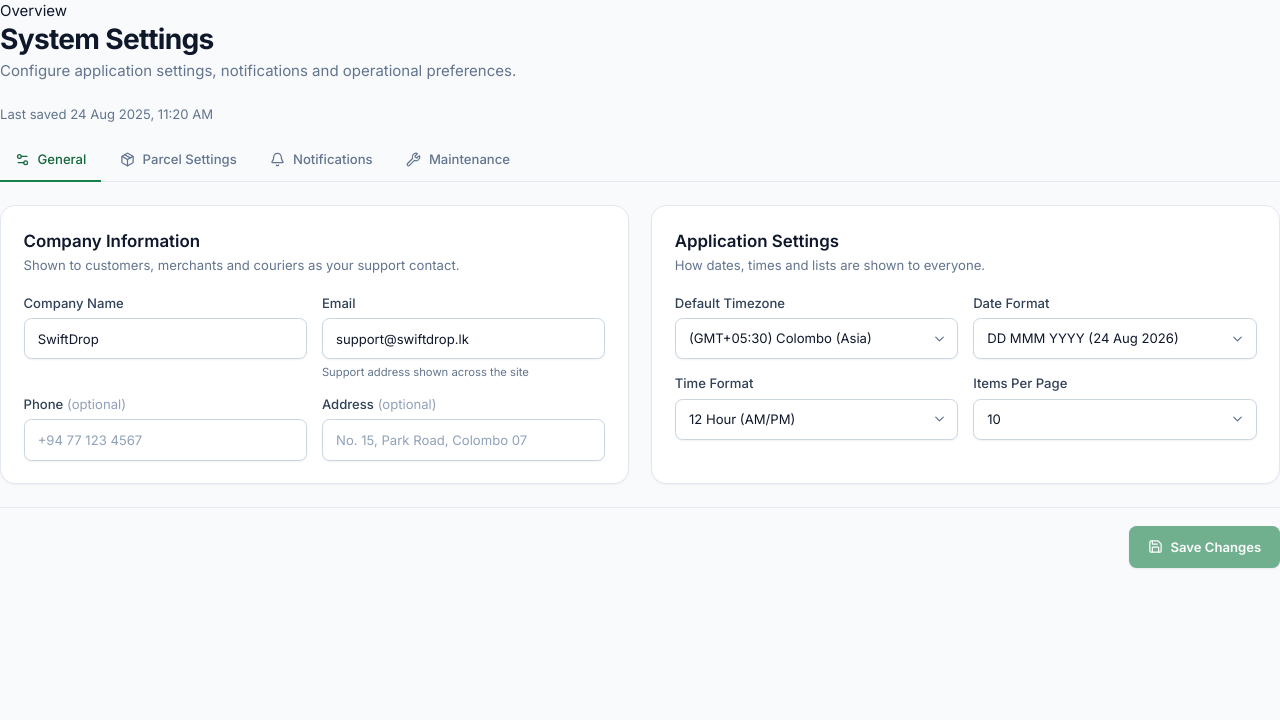
Test: SystemSettingsPage › asks before turning on maintenance mode
Expected: the tab "General" is shown, [0,139,101,182]
Click the tab "Maintenance" at {"x": 458, "y": 160}, box [391,139,525,182]
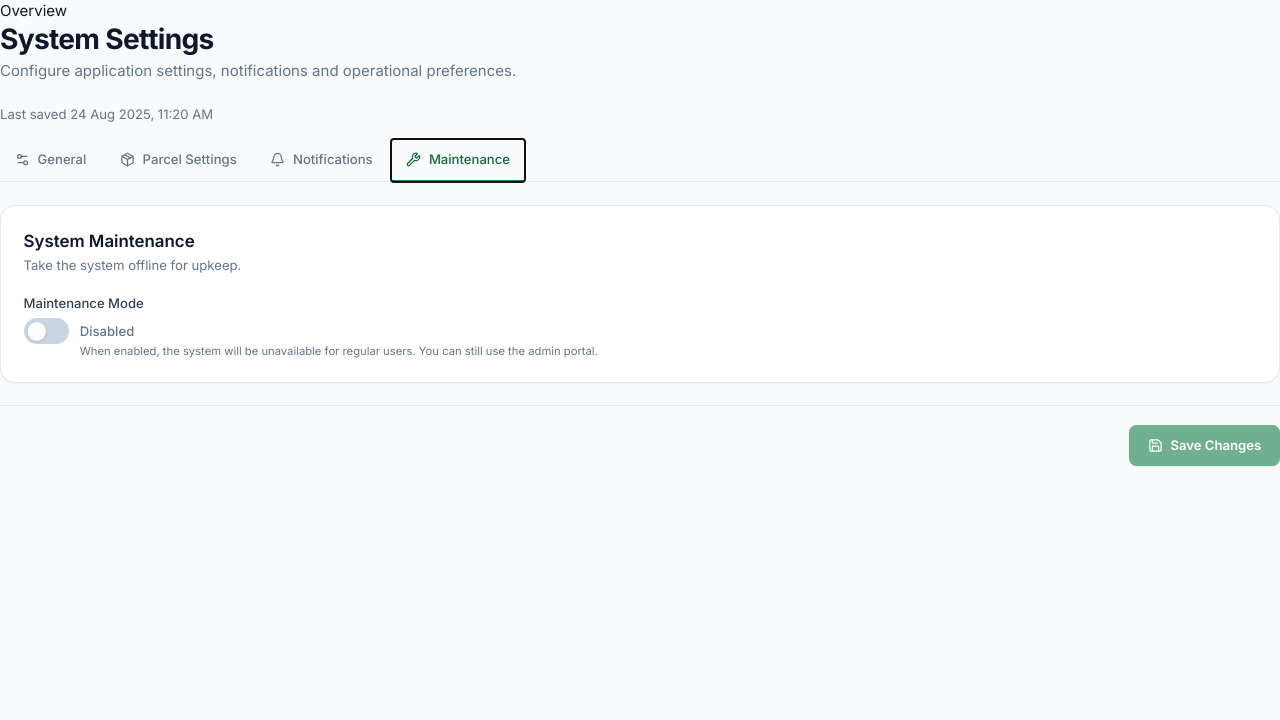
Click the switch named "Maintenance Mode" at {"x": 46, "y": 331}, box [24,318,68,344]
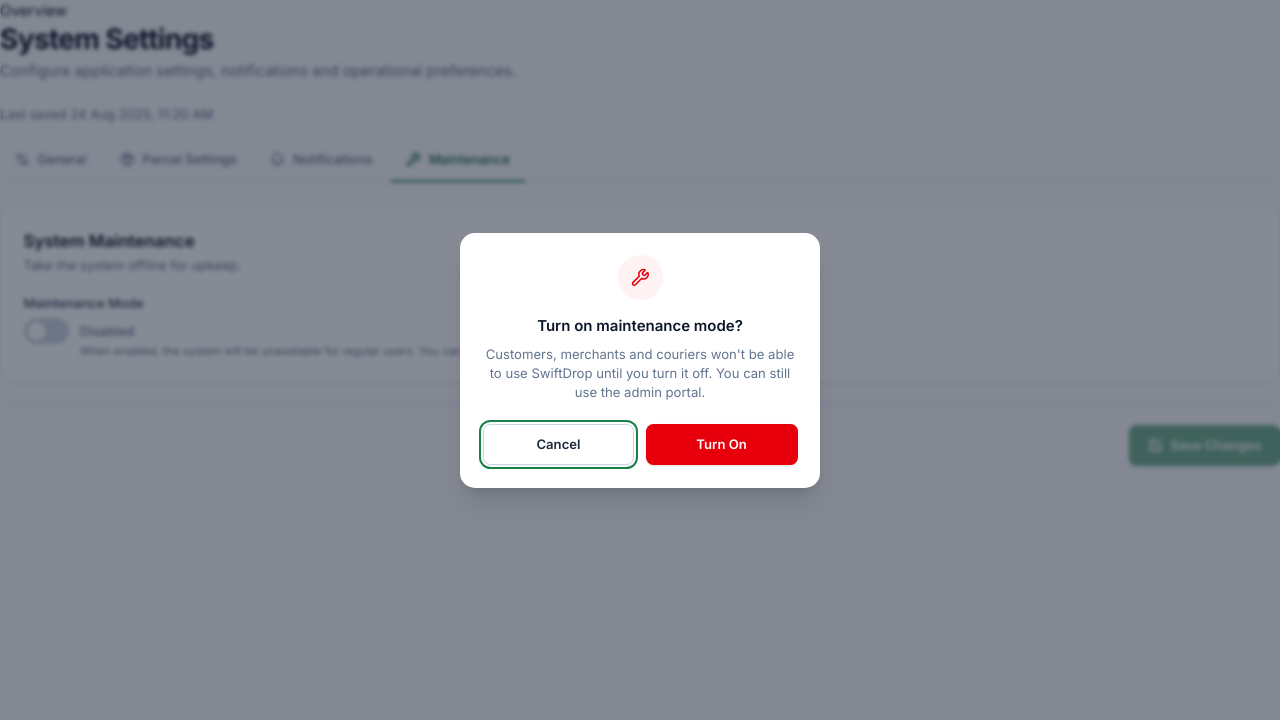
Click the button "Cancel" at {"x": 558, "y": 444}, box [482,424,634,465]
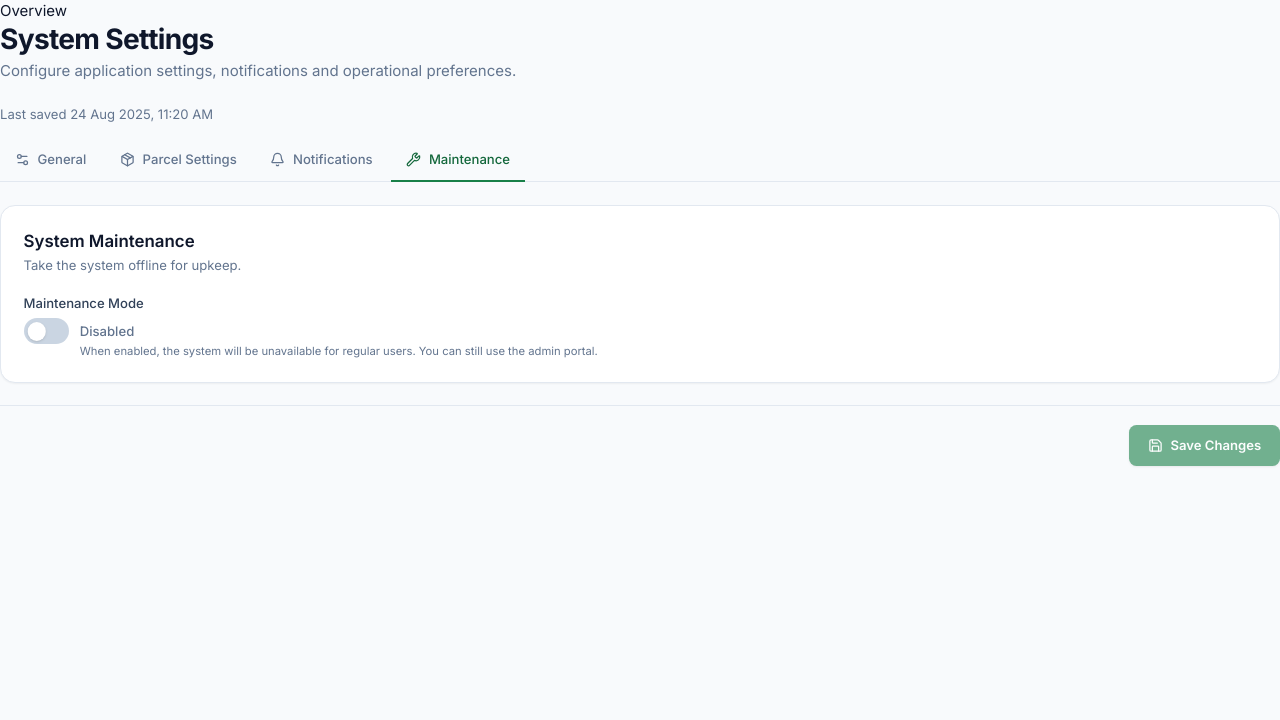
Click the switch named "Maintenance Mode" at {"x": 46, "y": 331}, box [24,318,68,344]
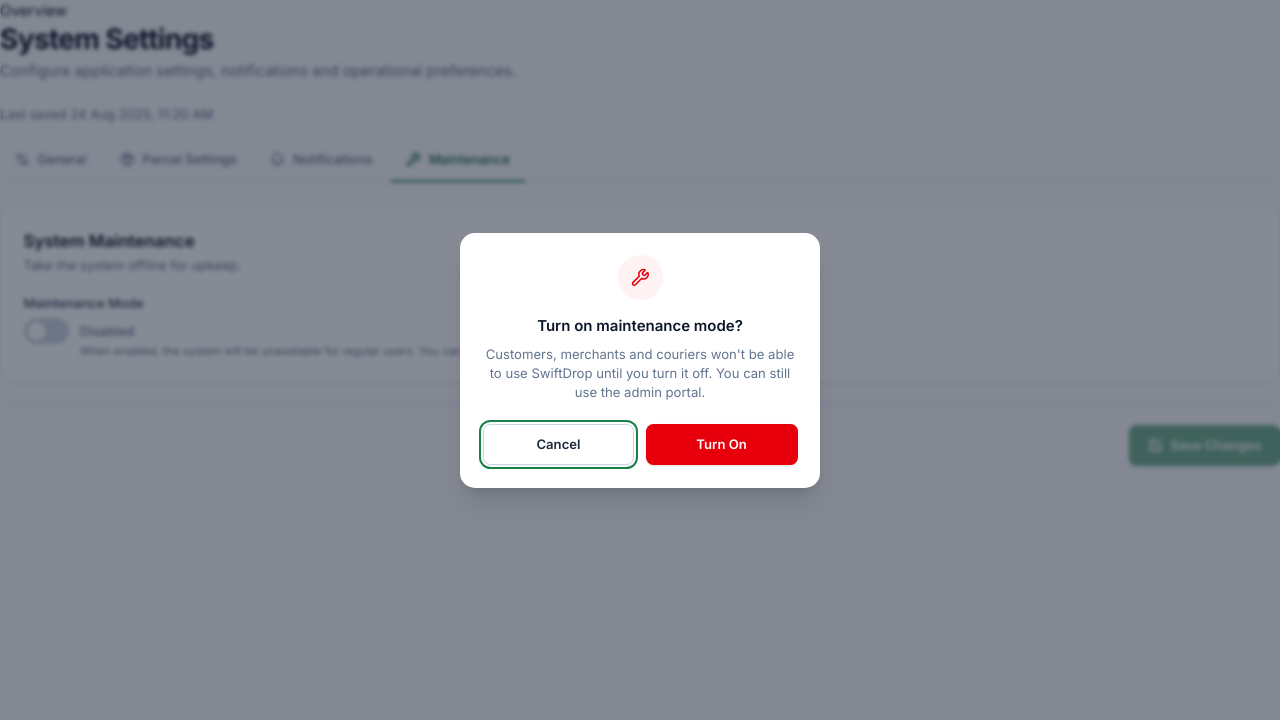
Click the button "Turn On" at {"x": 722, "y": 444}, box [646,424,798,465]
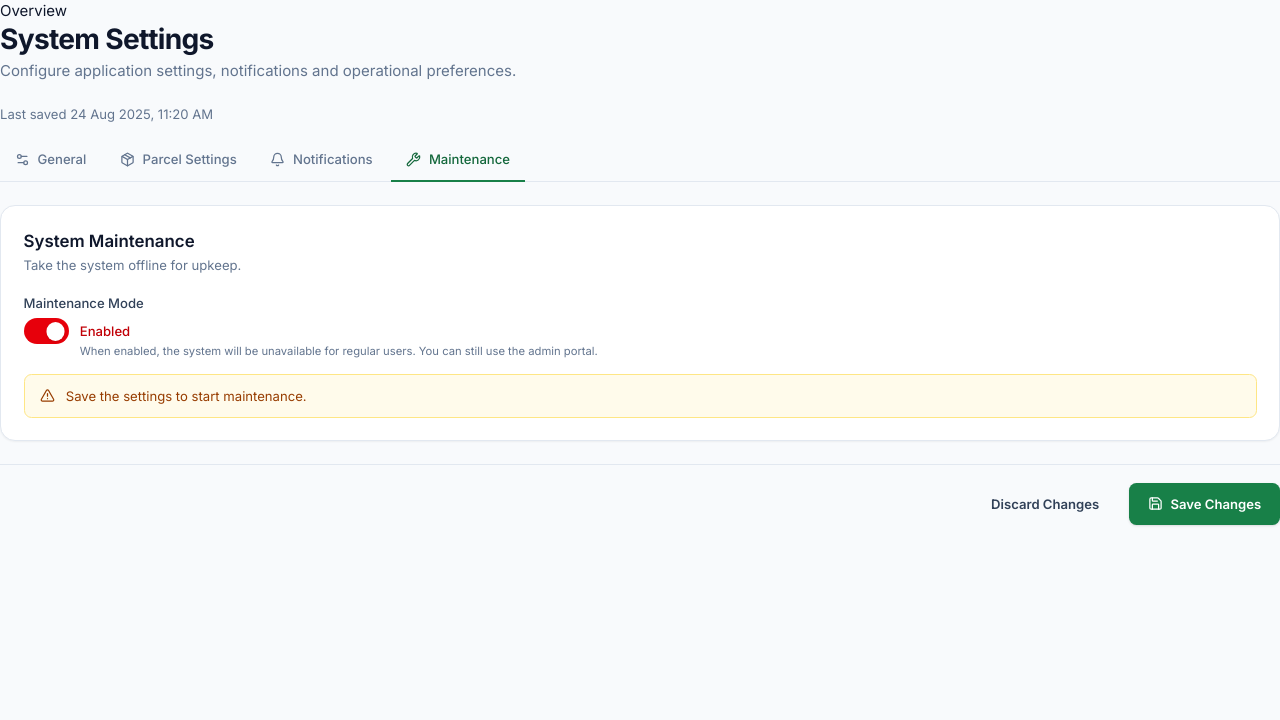
Expected: the text "Save the settings to start maintenance." is shown, [66,386,307,405]
